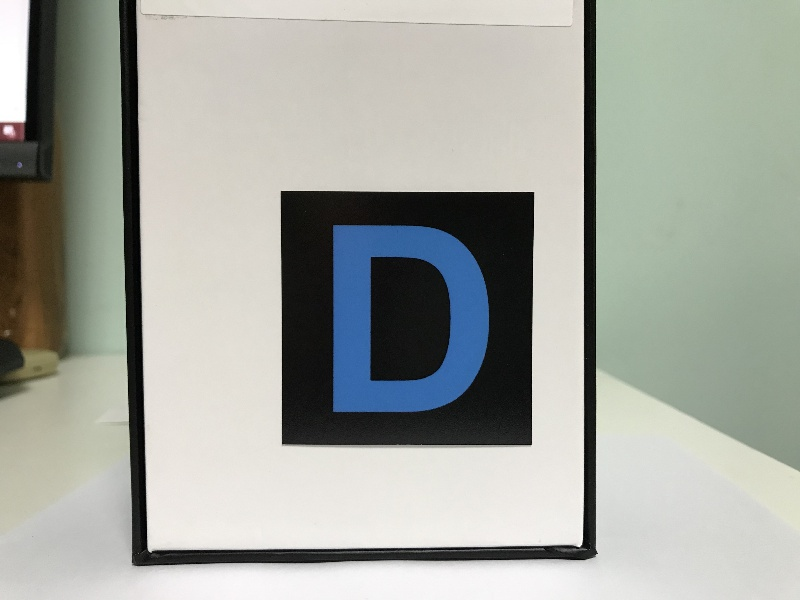D-14: (285, 193, 530, 445)
